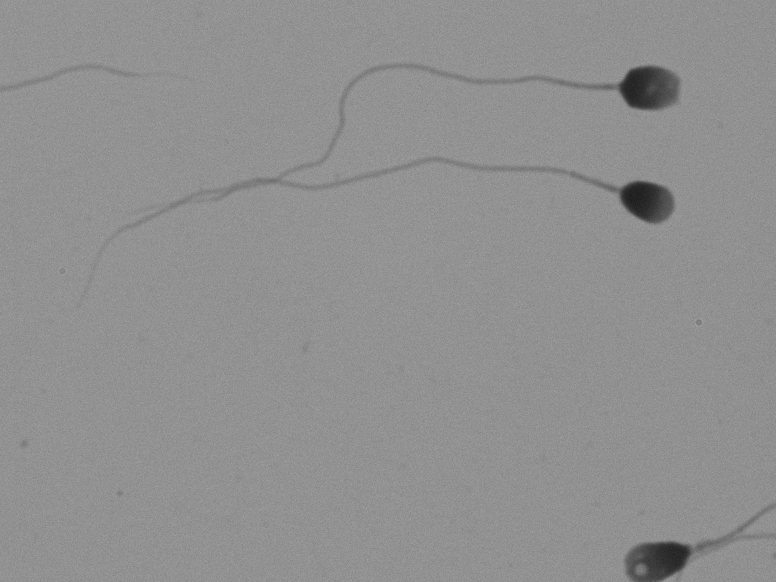Abnormal: (343, 18, 697, 140), (570, 470, 753, 580)
Normal: (22, 144, 717, 305)
